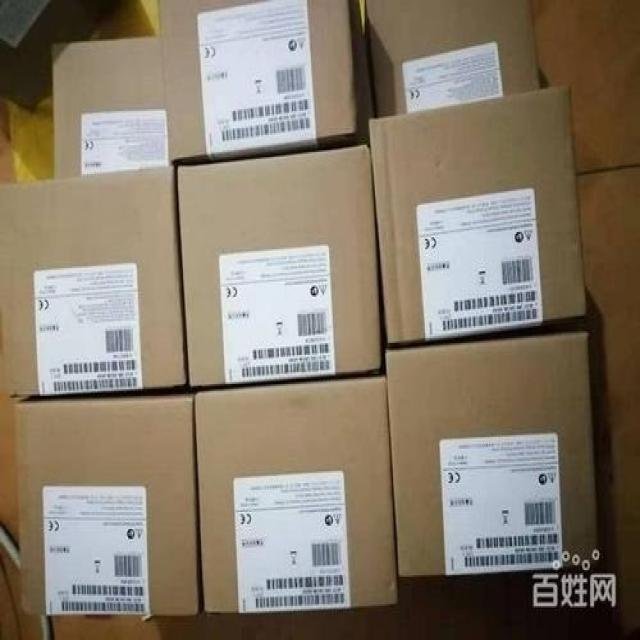box: (369, 85, 586, 343), (387, 329, 596, 575), (178, 145, 380, 386), (195, 375, 398, 614), (0, 166, 186, 398), (14, 393, 198, 616), (159, 0, 375, 162), (364, 0, 540, 119), (51, 36, 169, 179)
